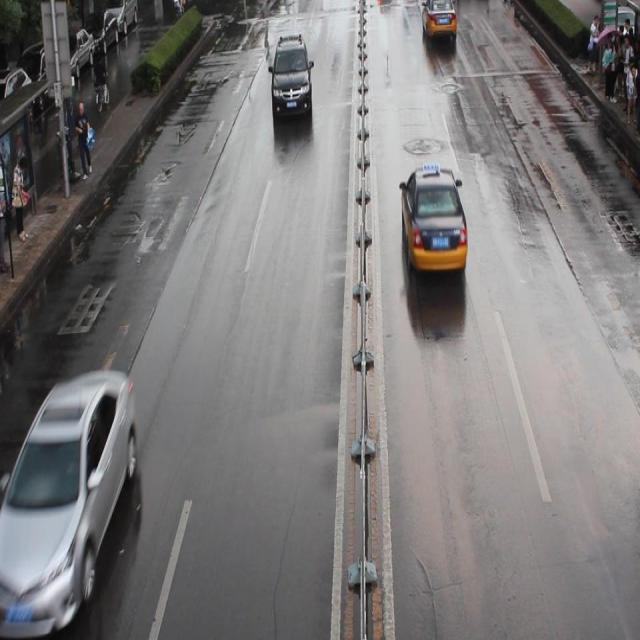car: (1, 366, 135, 619), (400, 163, 467, 274), (271, 36, 311, 119), (421, 1, 456, 42)
